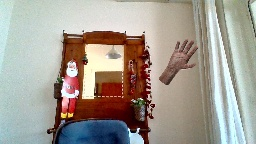Mano_aperta: (168, 37, 198, 70)
